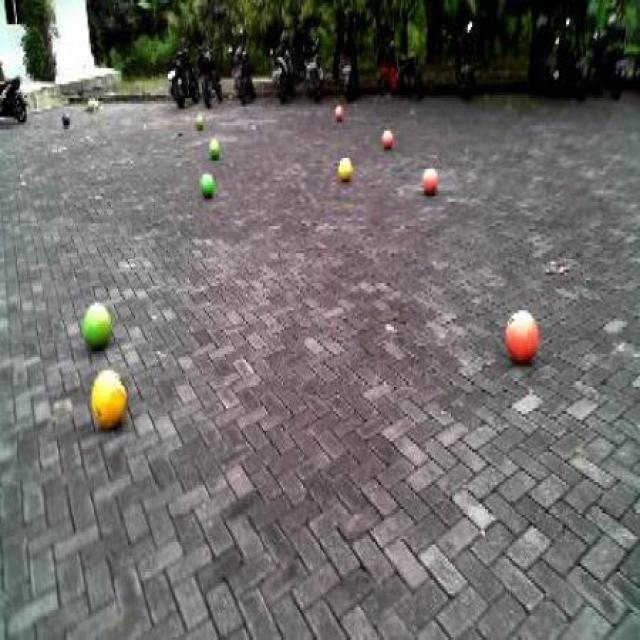buoy: (87, 365, 128, 433), (502, 298, 540, 369), (82, 292, 112, 348), (421, 159, 438, 192), (197, 170, 215, 198)
